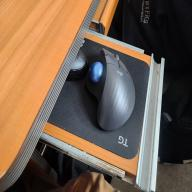Mouse: (88, 47, 136, 132)
